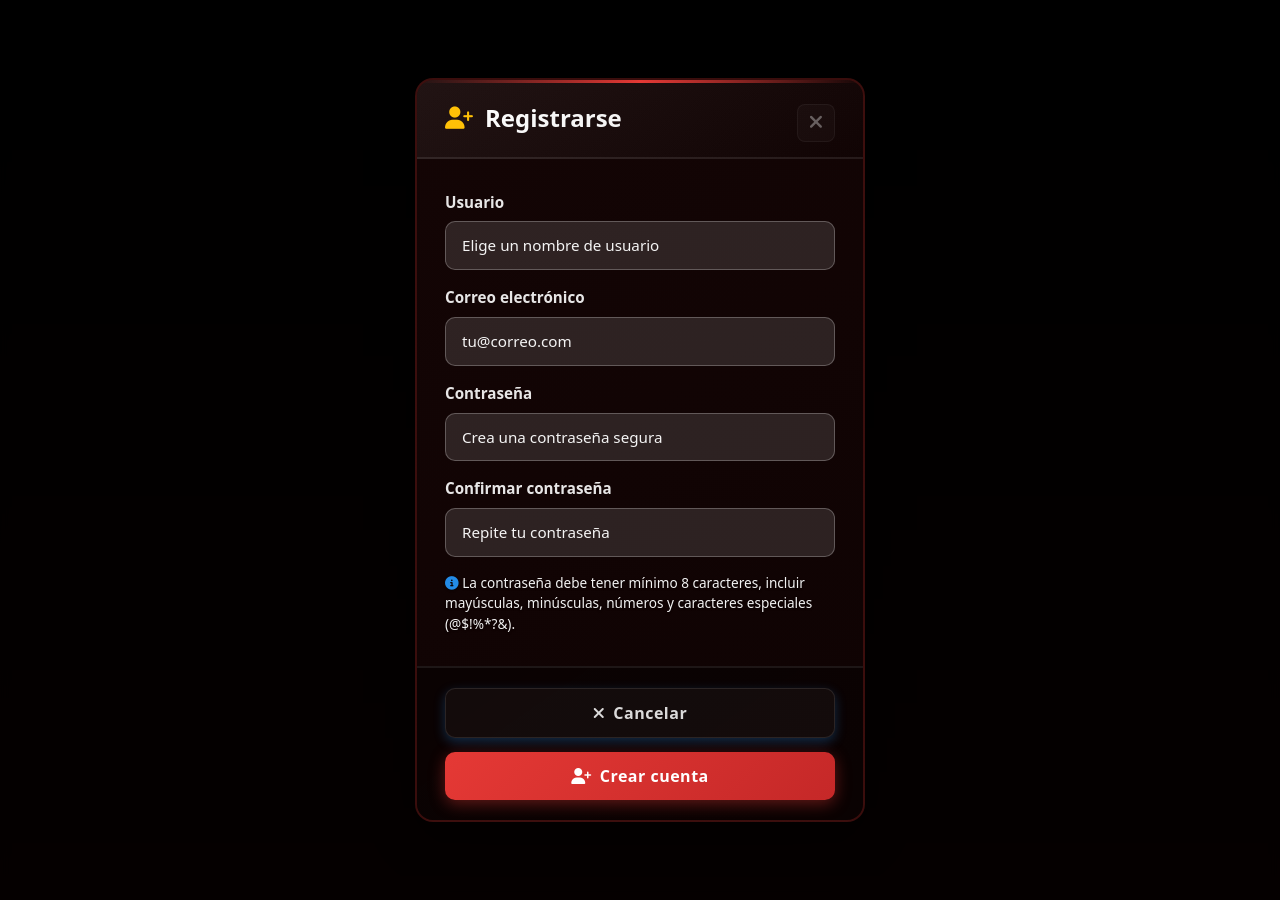
Scenario: RegisterModal › valida campos requeridos
Click the button "Crear cuenta" at (640, 776), box [445,752,835,800]
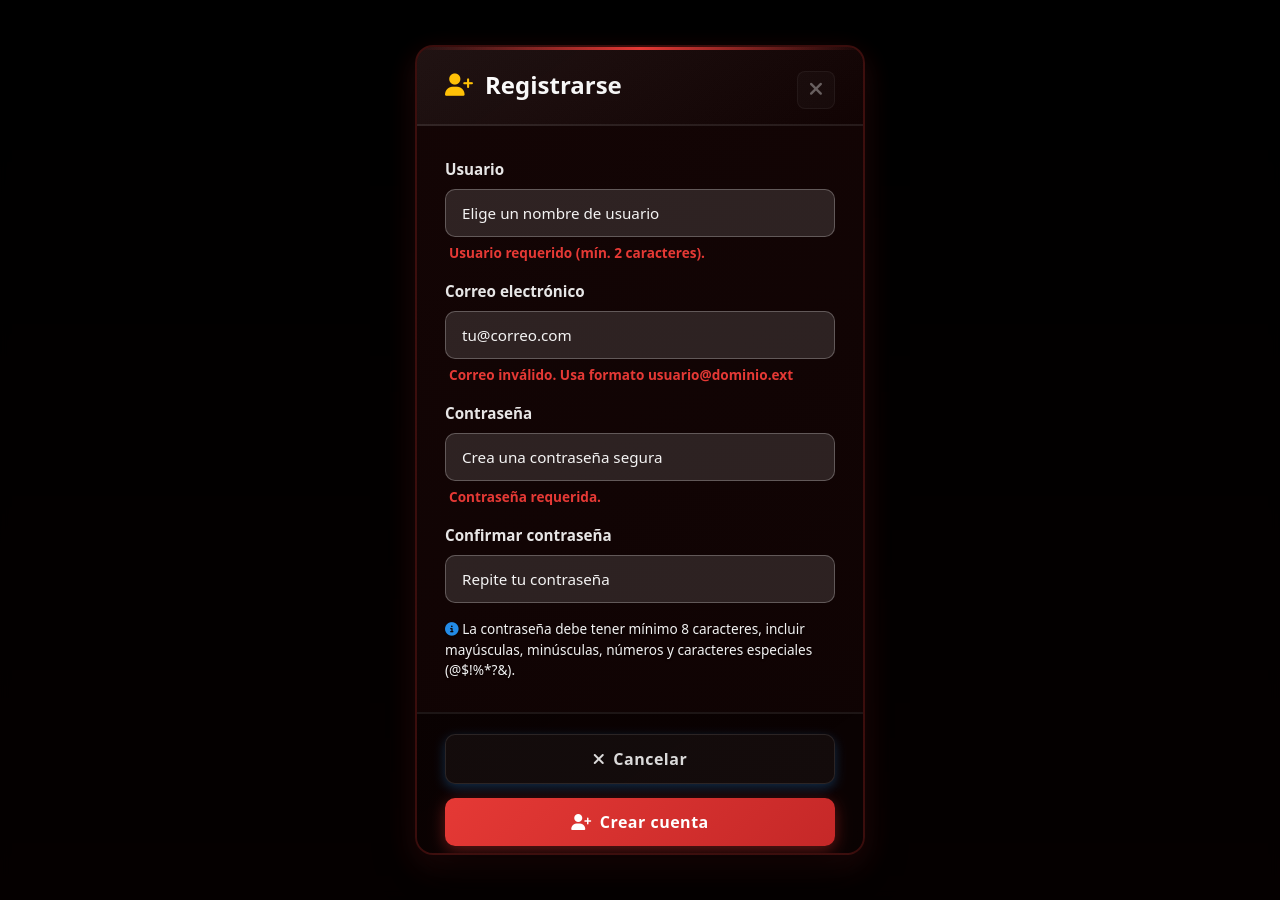
Expected: the text "Usuario requerido (mín. 2 caracteres)." is shown, [449,243,705,262]
